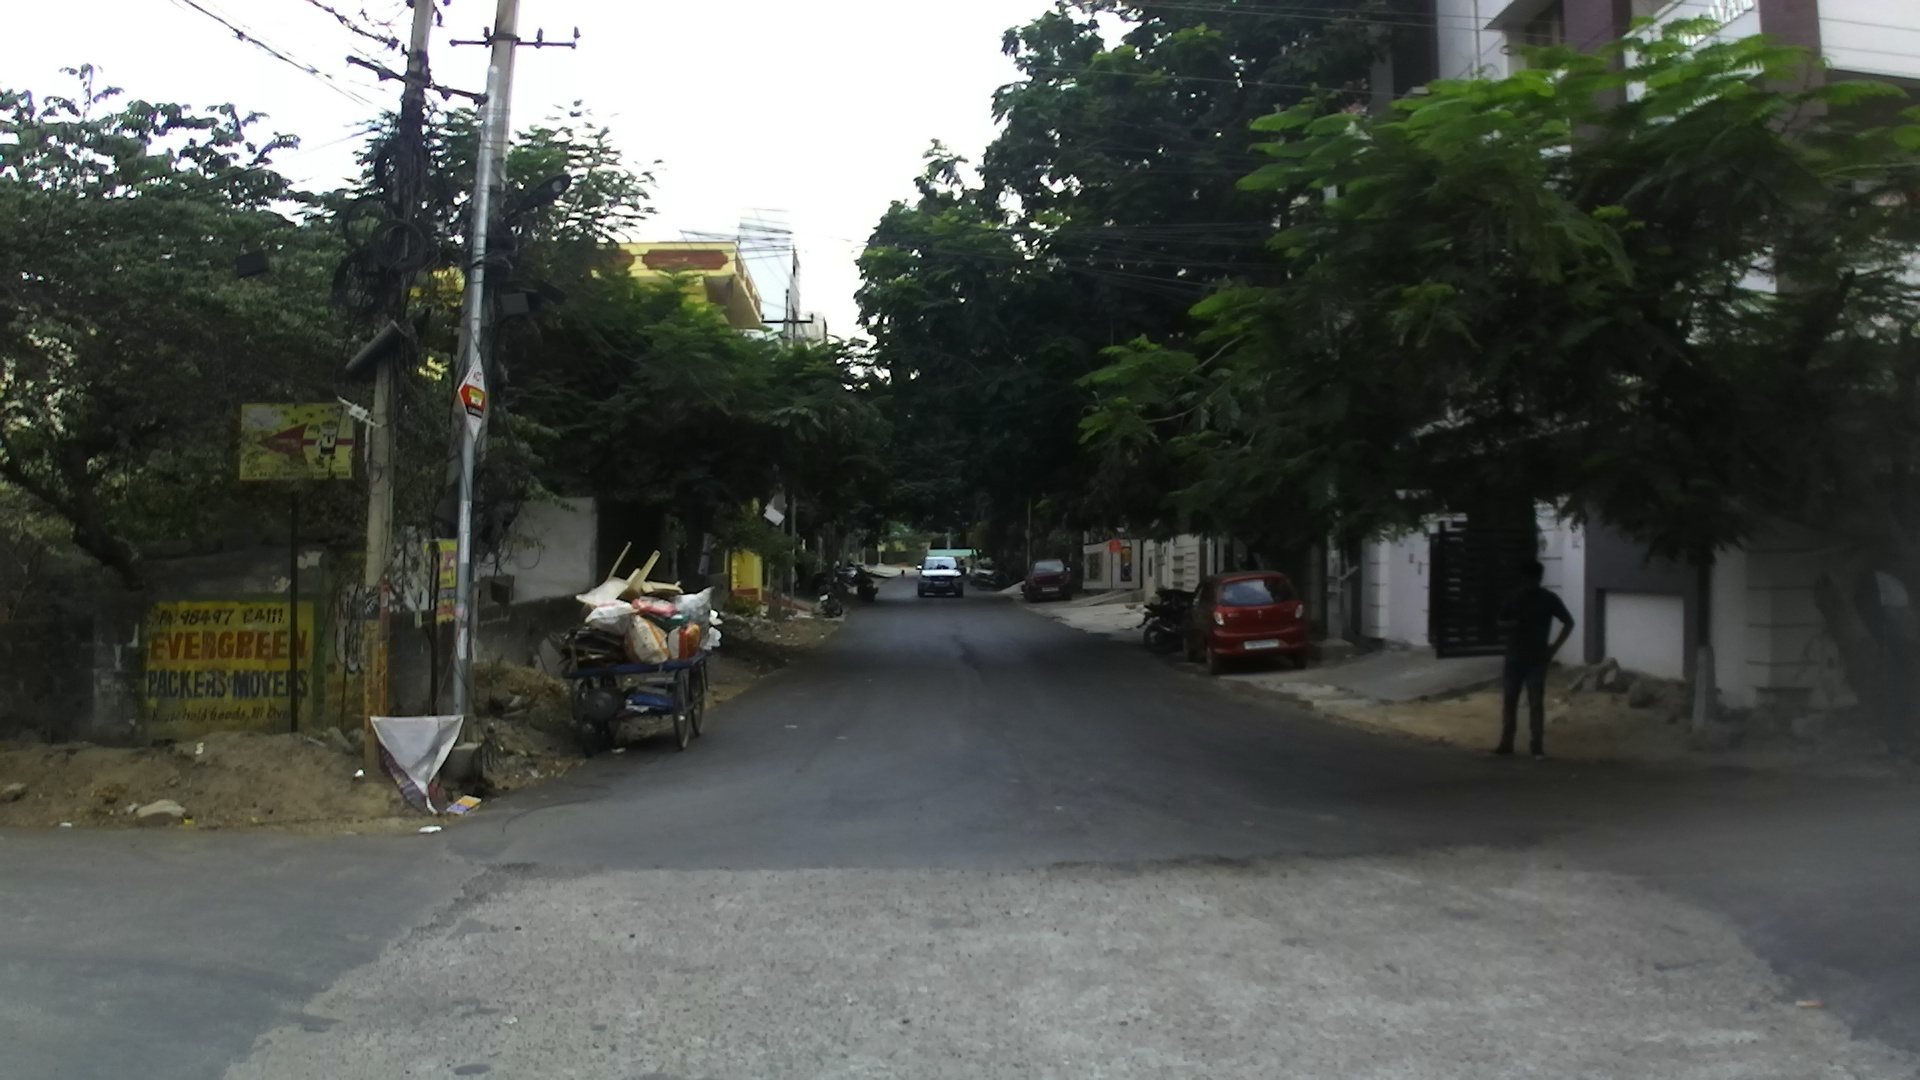vehicle: (560, 589, 720, 753), (1138, 571, 1315, 673), (915, 550, 965, 599), (1021, 560, 1071, 601)
